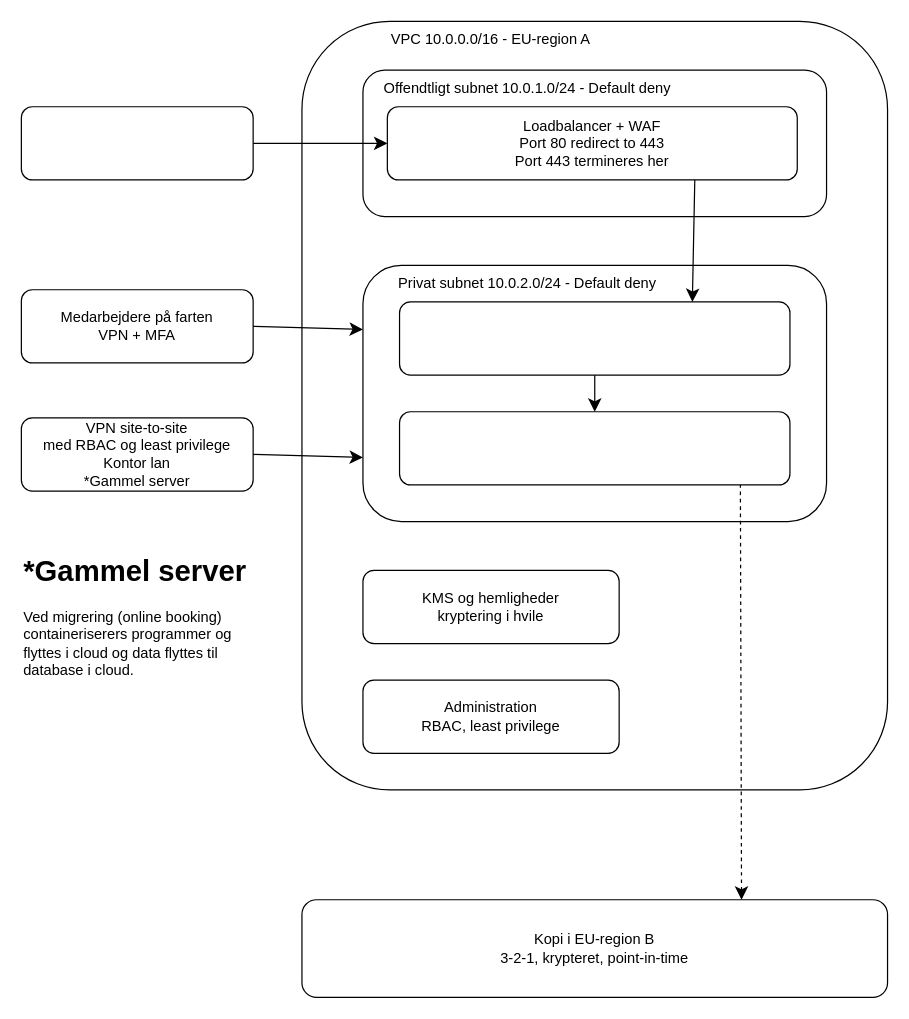
Image size: 909x1019. Some labels were removed from this diagram. The shapes that lost their labels are listed below. From the top down, each one's box as (x1, y1, x2, y2) in pixels, then its label:
(20, 106, 253, 180): Kunder HTTPS, port 443
(398, 301, 790, 375): Webinstanser Containere på PaaS, autoskalering
(398, 411, 790, 485): Managed database Krypteret, point-in-time
